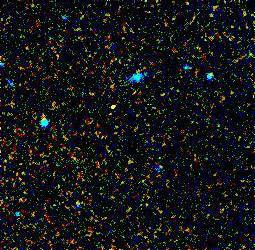star: (97, 90, 127, 120)
